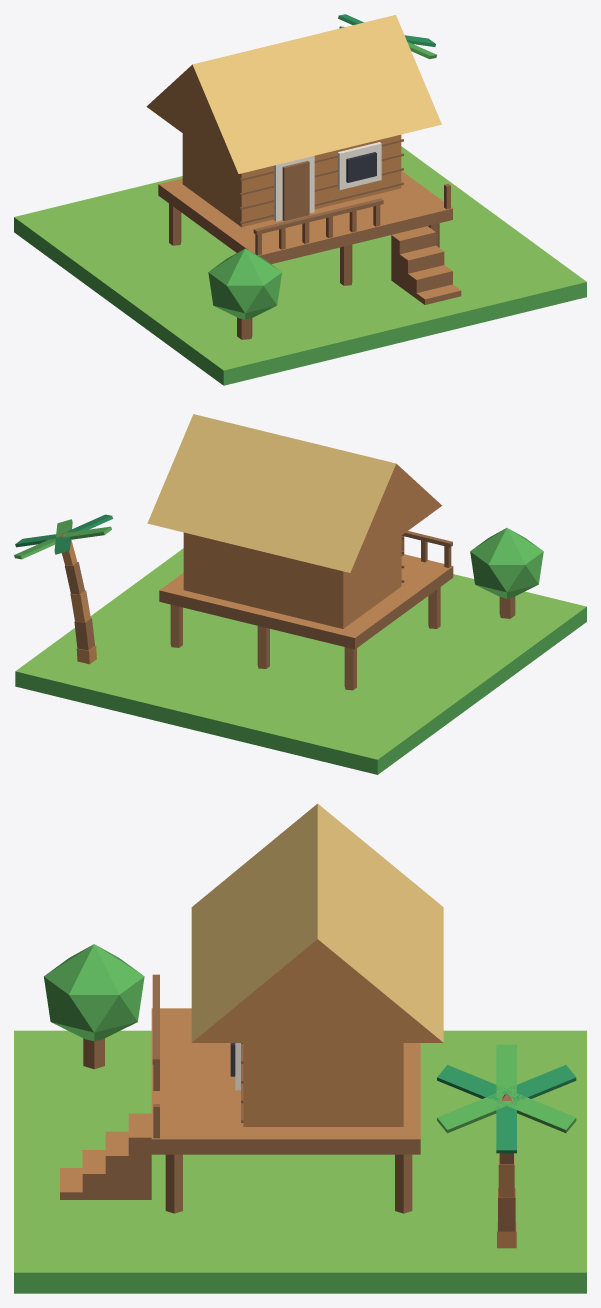
File: house_stilt.glb
3 views of the same model, one above another, from view 1: azimuth 30°, elevation 25°; view 2: azimuth 150°, elevation 25°; view 3: azimuth 270°, elevation 25° (orthographic). The views are drawn at different scales.
Parts seen in each view (by area): view 1: house_stilt; view 2: house_stilt; view 3: house_stilt.
Part boxes in pixels (bbox=[...]): house_stilt: bbox=[14, 14, 586, 385]; house_stilt: bbox=[14, 414, 586, 774]; house_stilt: bbox=[14, 803, 586, 1293].
Bounding box in the file's own units: 1.07 × 0.581 × 1.
